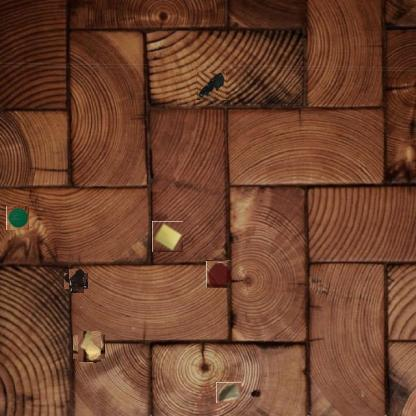dirty: (152, 221, 183, 252), (198, 72, 228, 100), (76, 333, 104, 361), (6, 207, 30, 230), (216, 382, 241, 403)
liquid: (206, 260, 231, 288), (66, 271, 86, 291)
